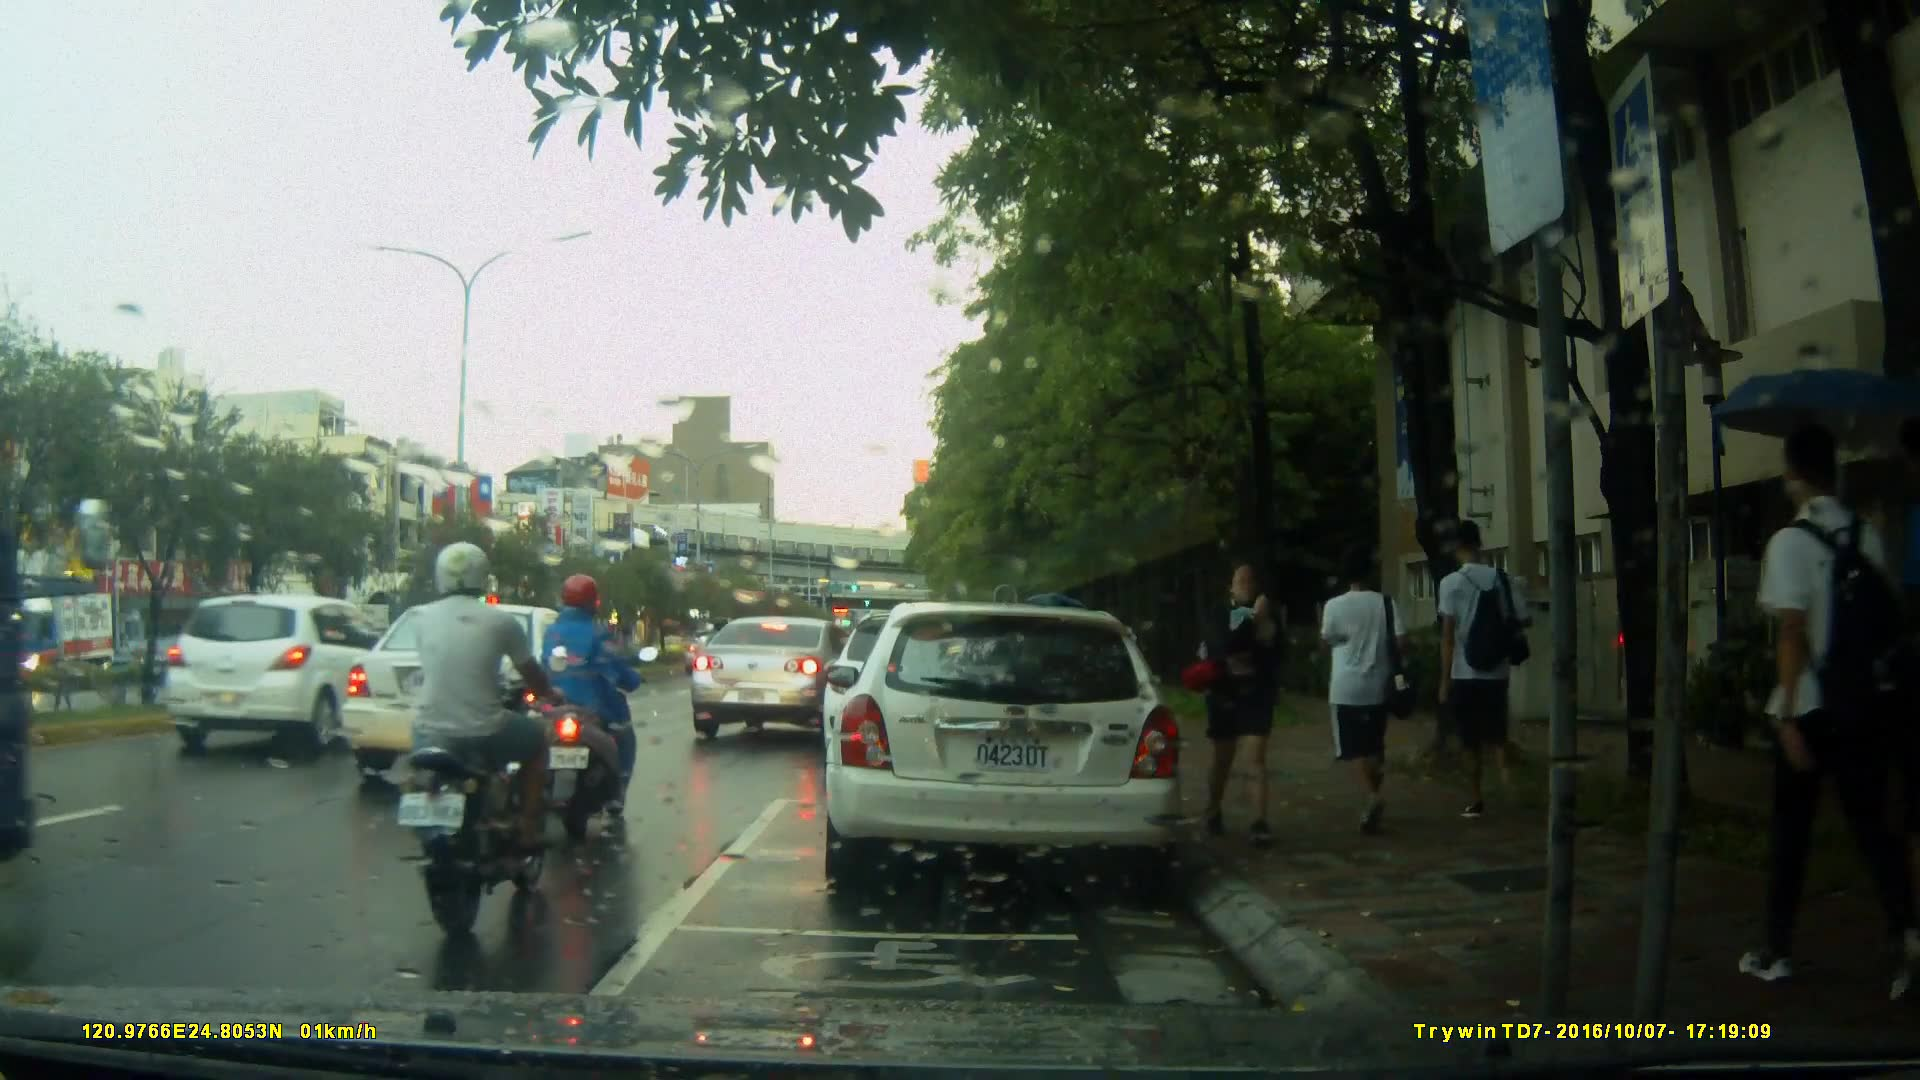pedestrian: (1743, 397, 1872, 991), (1426, 515, 1528, 841), (1301, 544, 1398, 836), (1221, 561, 1310, 853)
rider: (408, 542, 561, 925), (530, 576, 658, 831), (702, 614, 733, 708)
vehicle: (820, 602, 1188, 898), (327, 601, 624, 793), (162, 593, 407, 760), (684, 614, 888, 744)
